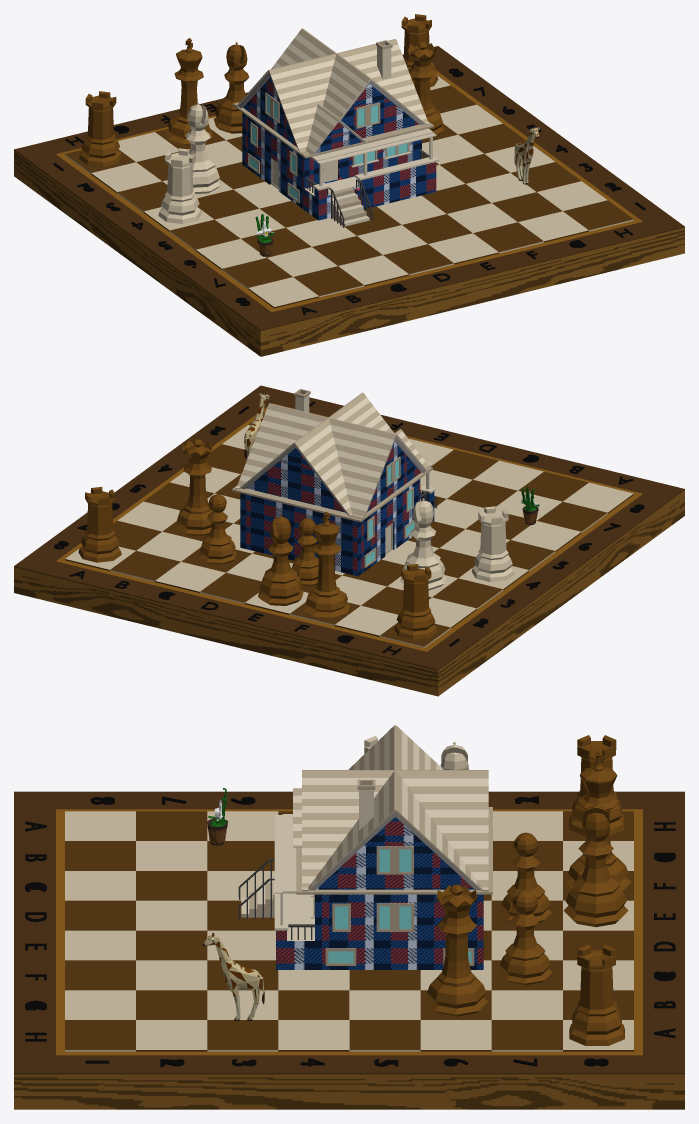
The picture shows the model from 3 angles, top to bottom: view 1: azimuth 30°, elevation 25°; view 2: azimuth 150°, elevation 25°; view 3: azimuth 270°, elevation 25°; orthographic projection. The views are drawn at different scales.
Parts seen in each view (by area): view 1: Cube.002, Cube.171, ANIMAL_JIRAFA, OBJRANDOM_MONJA BLANCA; view 2: Cube.002, Cube.171, ANIMAL_JIRAFA, OBJRANDOM_MONJA BLANCA; view 3: Cube.002, Cube.171, ANIMAL_JIRAFA, OBJRANDOM_MONJA BLANCA.
Boxes of the visible parts, x1,y1,x2,y2 form: Cube.002: (14,14,684,356); Cube.171: (232,28,439,227); ANIMAL_JIRAFA: (514,126,539,184); OBJRANDOM_MONJA BLANCA: (255,214,274,256); Cube.002: (14,385,684,696); Cube.171: (232,389,436,576); ANIMAL_JIRAFA: (244,393,269,459); OBJRANDOM_MONJA BLANCA: (521,487,539,525); Cube.002: (14,735,684,1109); Cube.171: (238,725,492,969); ANIMAL_JIRAFA: (202,932,264,1021); OBJRANDOM_MONJA BLANCA: (207,788,227,845).
Size of the model in its own units: 3981 by 1492 by 4012.
Materials: 28 (3 with a texture image).
